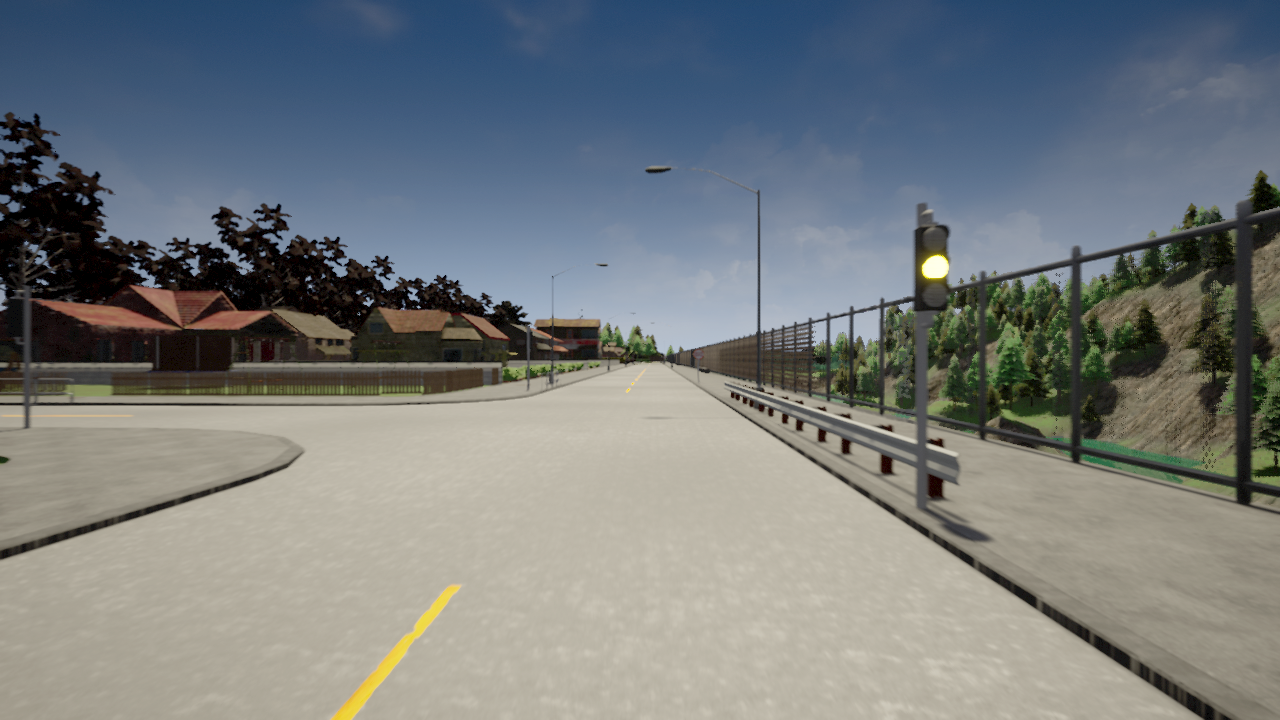yellow: (913, 224, 952, 315)
